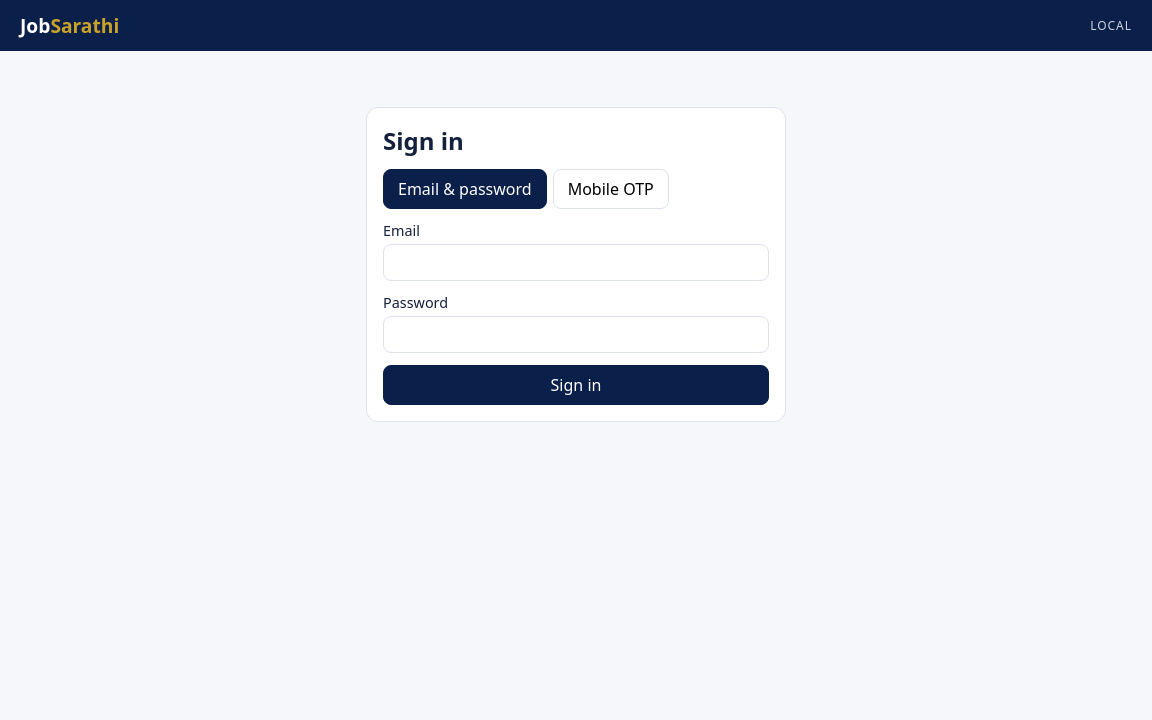
Test: sign-in › shows the server message on wrong credentials
Type "a@example.test" into the field labelled "Email" at coordinates (576, 262), box [383,244,769,281]
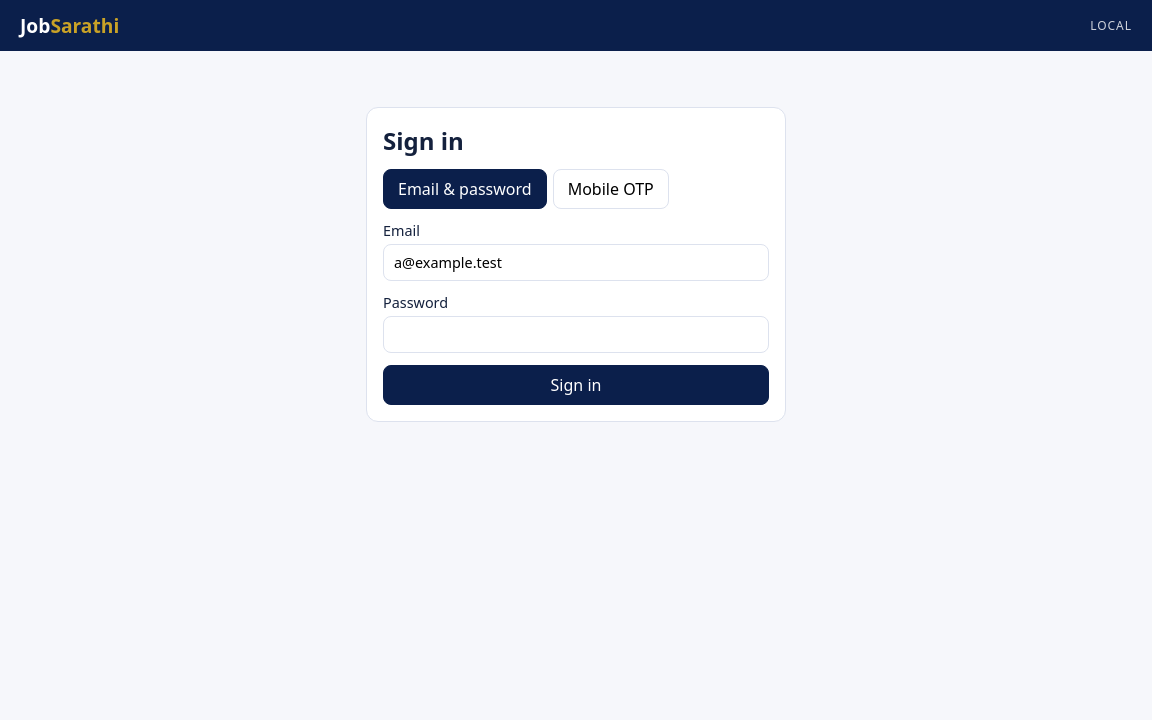
Type "x" into the password field labelled "Password" at coordinates (576, 334), box [383,316,769,353]
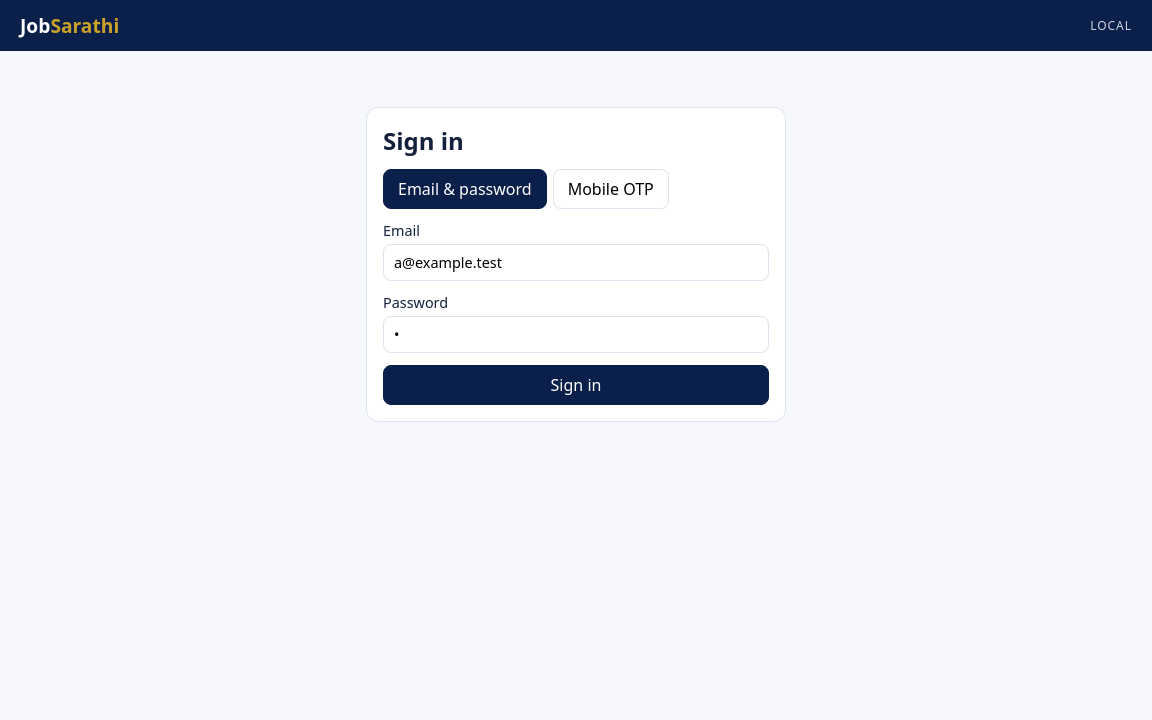
Click the button "Sign in" at coordinates (576, 385), box [383,365,769,405]
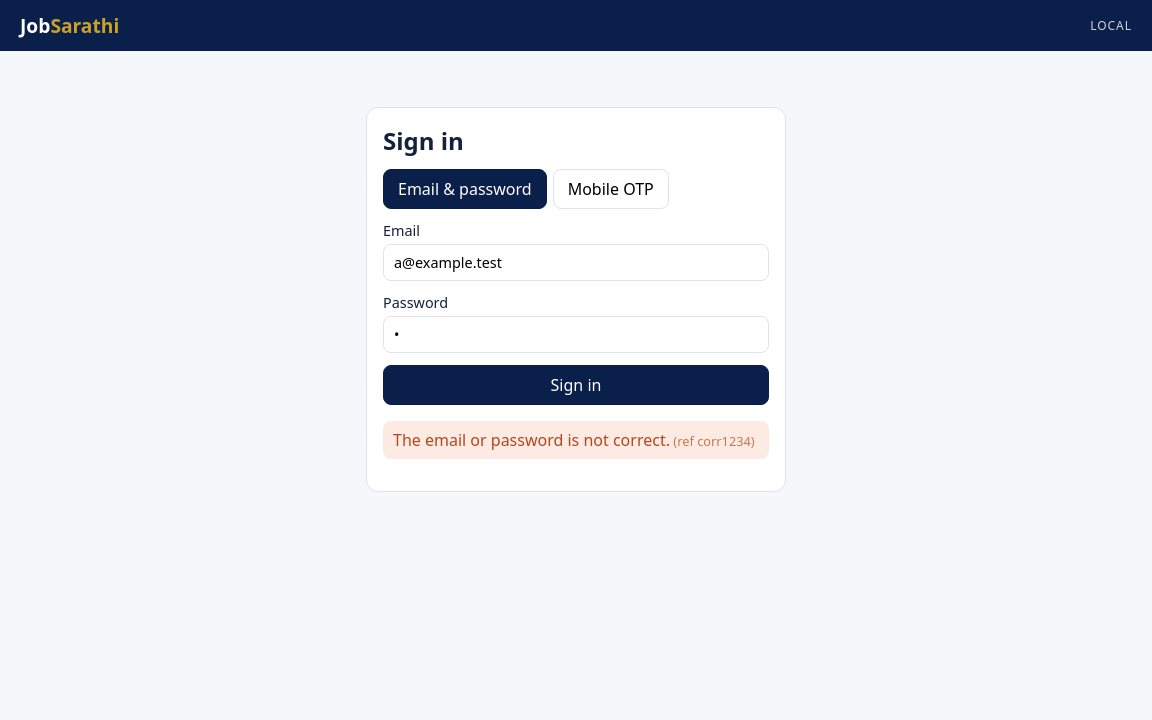
Check: the message shows "The email or password is not correct.", box [393,429,670,451]
